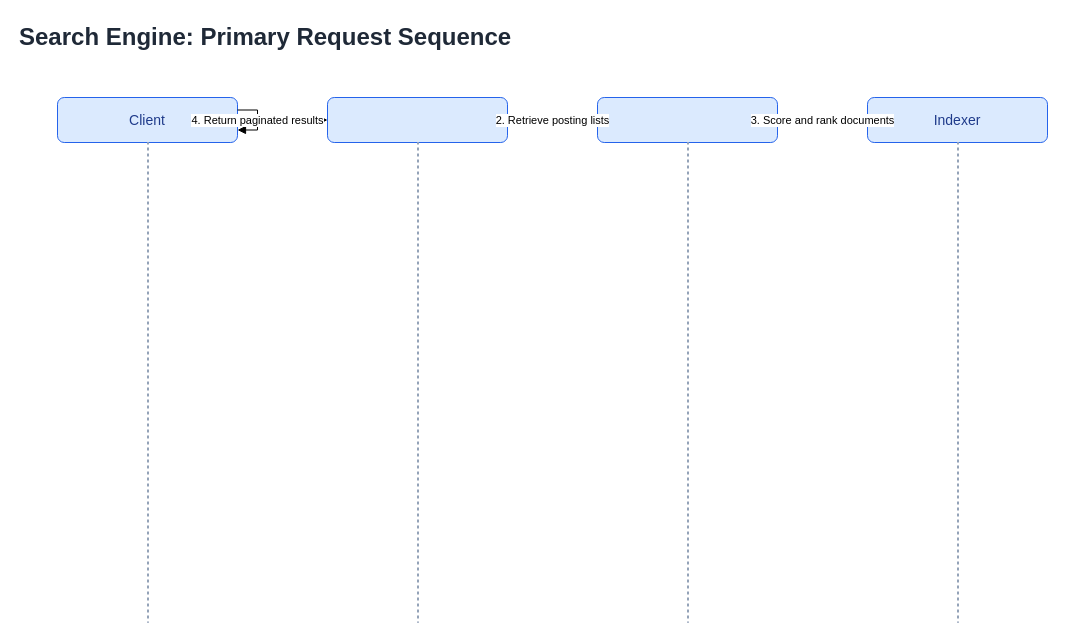
This 1065x640 diagram has some shape labels left out. Here are the shapes that lost their labels. From the top down, the centre of each, then its label:
[417,119]: Crawler
[687,119]: Document Processor
